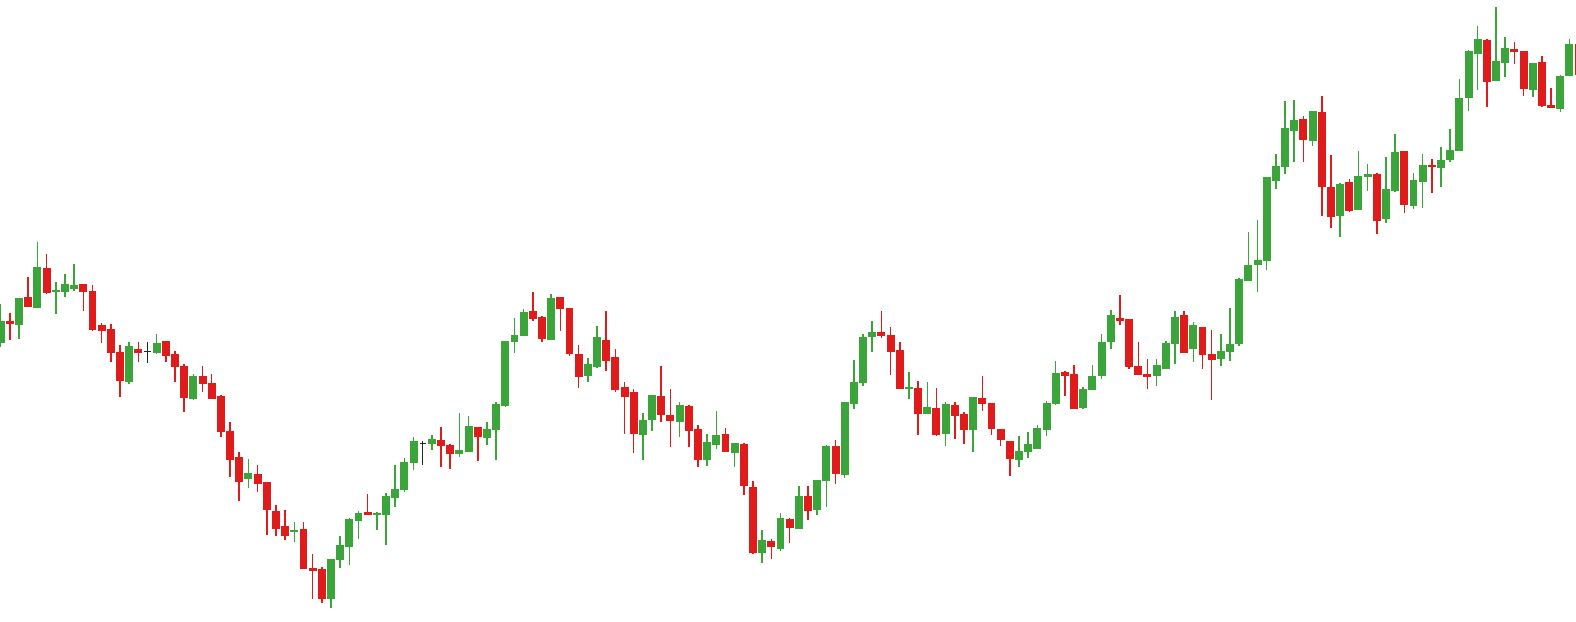buy: (1144, 333, 1227, 404)
